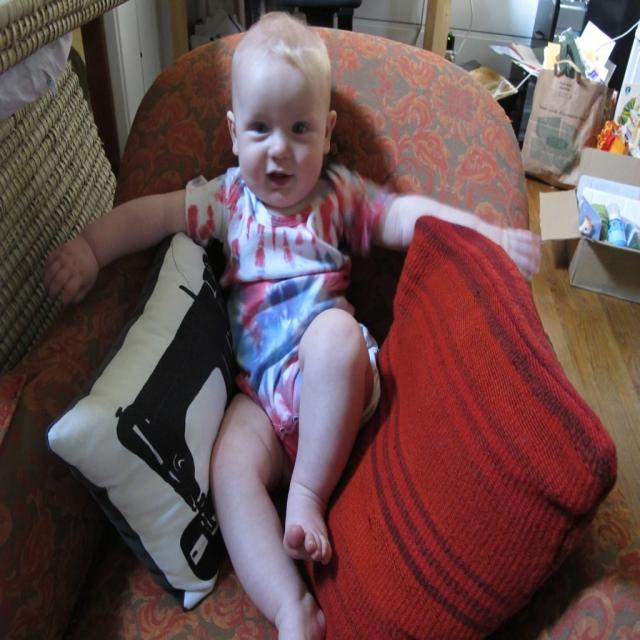Box: (560, 121, 638, 307)
